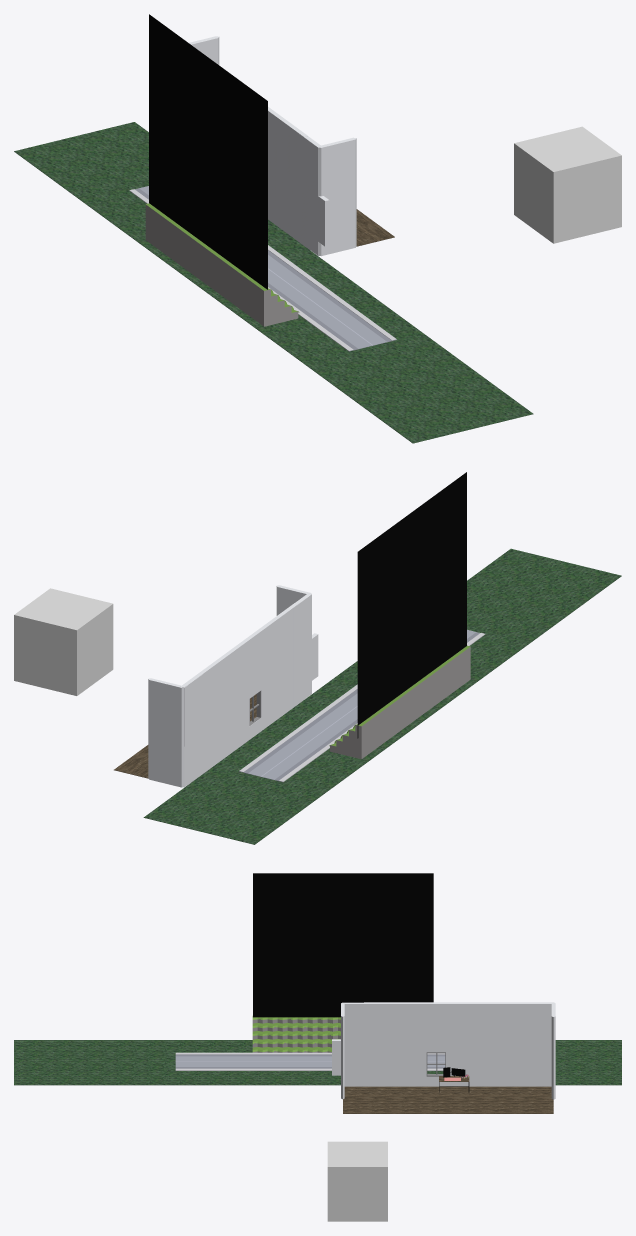
File: roomv6.glb
3 renders of one model, top to bottom at view 1: azimuth 30°, elevation 25°; view 2: azimuth 150°, elevation 25°; view 3: azimuth 270°, elevation 25°, orthographic. The views are drawn at different scales.
Visible parts, largest first — view 1: aaaa, Cube; view 2: aaaa, Cube; view 3: aaaa, Cube.
Part boxes in pixels (x1=…): aaaa: x1=14, y1=14, x2=533, y2=443; Cube: x1=514, y1=126, x2=621, y2=243; aaaa: x1=114, y1=472, x2=621, y2=844; Cube: x1=14, y1=588, x2=113, y2=695; aaaa: x1=14, y1=873, x2=621, y2=1113; Cube: x1=327, y1=1141, x2=387, y2=1221.
Bounding box in the file's own units: 12.13 × 7.27 × 20.19.
19 materials, 3 textured.
